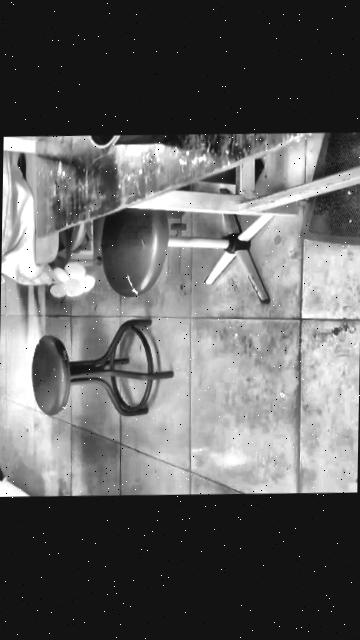pot: (86, 133, 182, 147)
